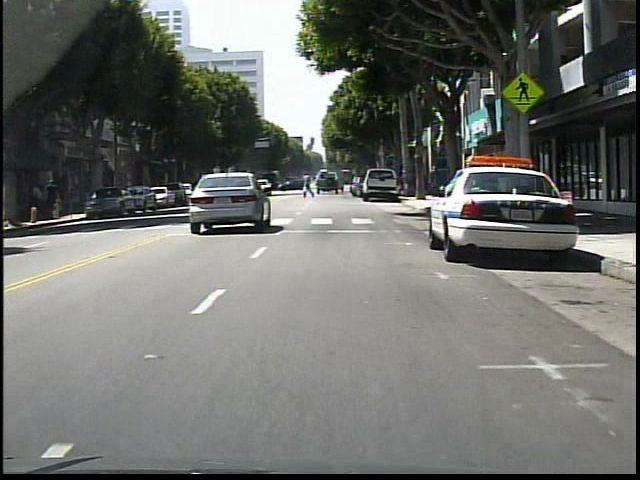person: (427, 163, 444, 206), (49, 180, 63, 220), (34, 183, 47, 219), (302, 172, 317, 201)
